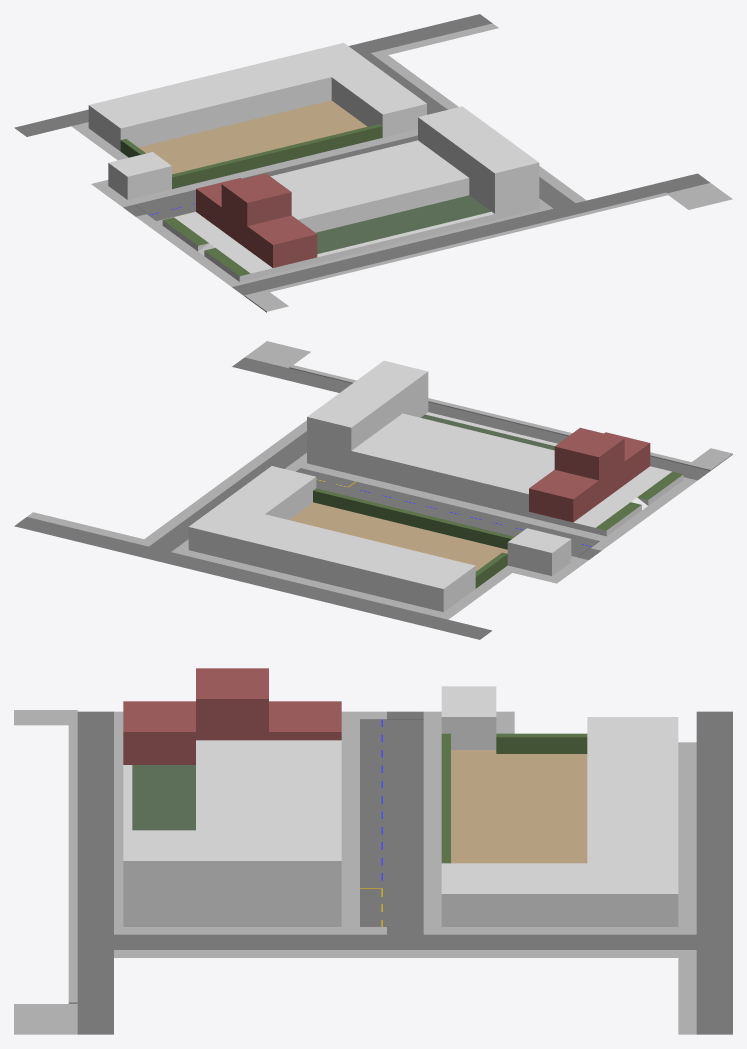
The model's file is hospital.glb.
The picture shows the model from 3 angles, top to bottom: view 1: azimuth 30°, elevation 25°; view 2: azimuth 150°, elevation 25°; view 3: azimuth 270°, elevation 25°; orthographic projection. The views are drawn at different scales.
Parts seen in each view (by area): view 1: Kindergarten, Hospital, Plane, Casa, Sidewalk; view 2: Kindergarten, Hospital, Plane, Sidewalk, Casa; view 3: Kindergarten, Plane, Hospital, Sidewalk, Casa.
Part boxes in pixels (x1=…): Kindergarten: x1=88, y1=43, x2=426, y2=199; Hospital: x1=270, y1=106, x2=539, y2=262; Plane: x1=14, y1=14, x2=710, y2=296; Casa: x1=162, y1=173, x2=317, y2=281; Sidewalk: x1=71, y1=23, x2=732, y2=312; Kindergarten: x1=188, y1=466, x2=571, y2=612; Hospital: x1=307, y1=360, x2=557, y2=517; Plane: x1=14, y1=357, x2=710, y2=639; Sidewalk: x1=27, y1=341, x2=732, y2=619; Casa: x1=529, y1=427, x2=683, y2=536; Kindergarten: x1=441, y1=686, x2=678, y2=926; Plane: x1=77, y1=711, x2=732, y2=1034; Hospital: x1=123, y1=740, x2=341, y2=926; Sidewalk: x1=14, y1=710, x2=696, y2=1034; Casa: x1=123, y1=668, x2=341, y2=764.
Size of what is drawn, in the model's own units: 84 by 9 by 79.
11 materials, 1 textured.
